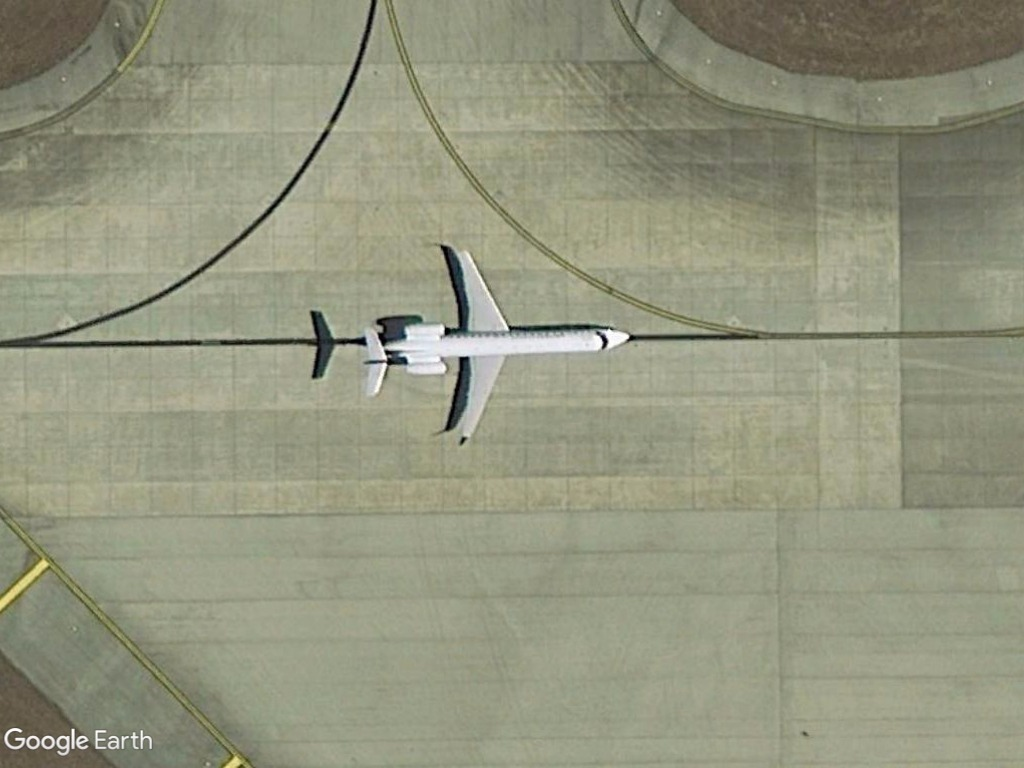chartered: (350, 244, 633, 448)
